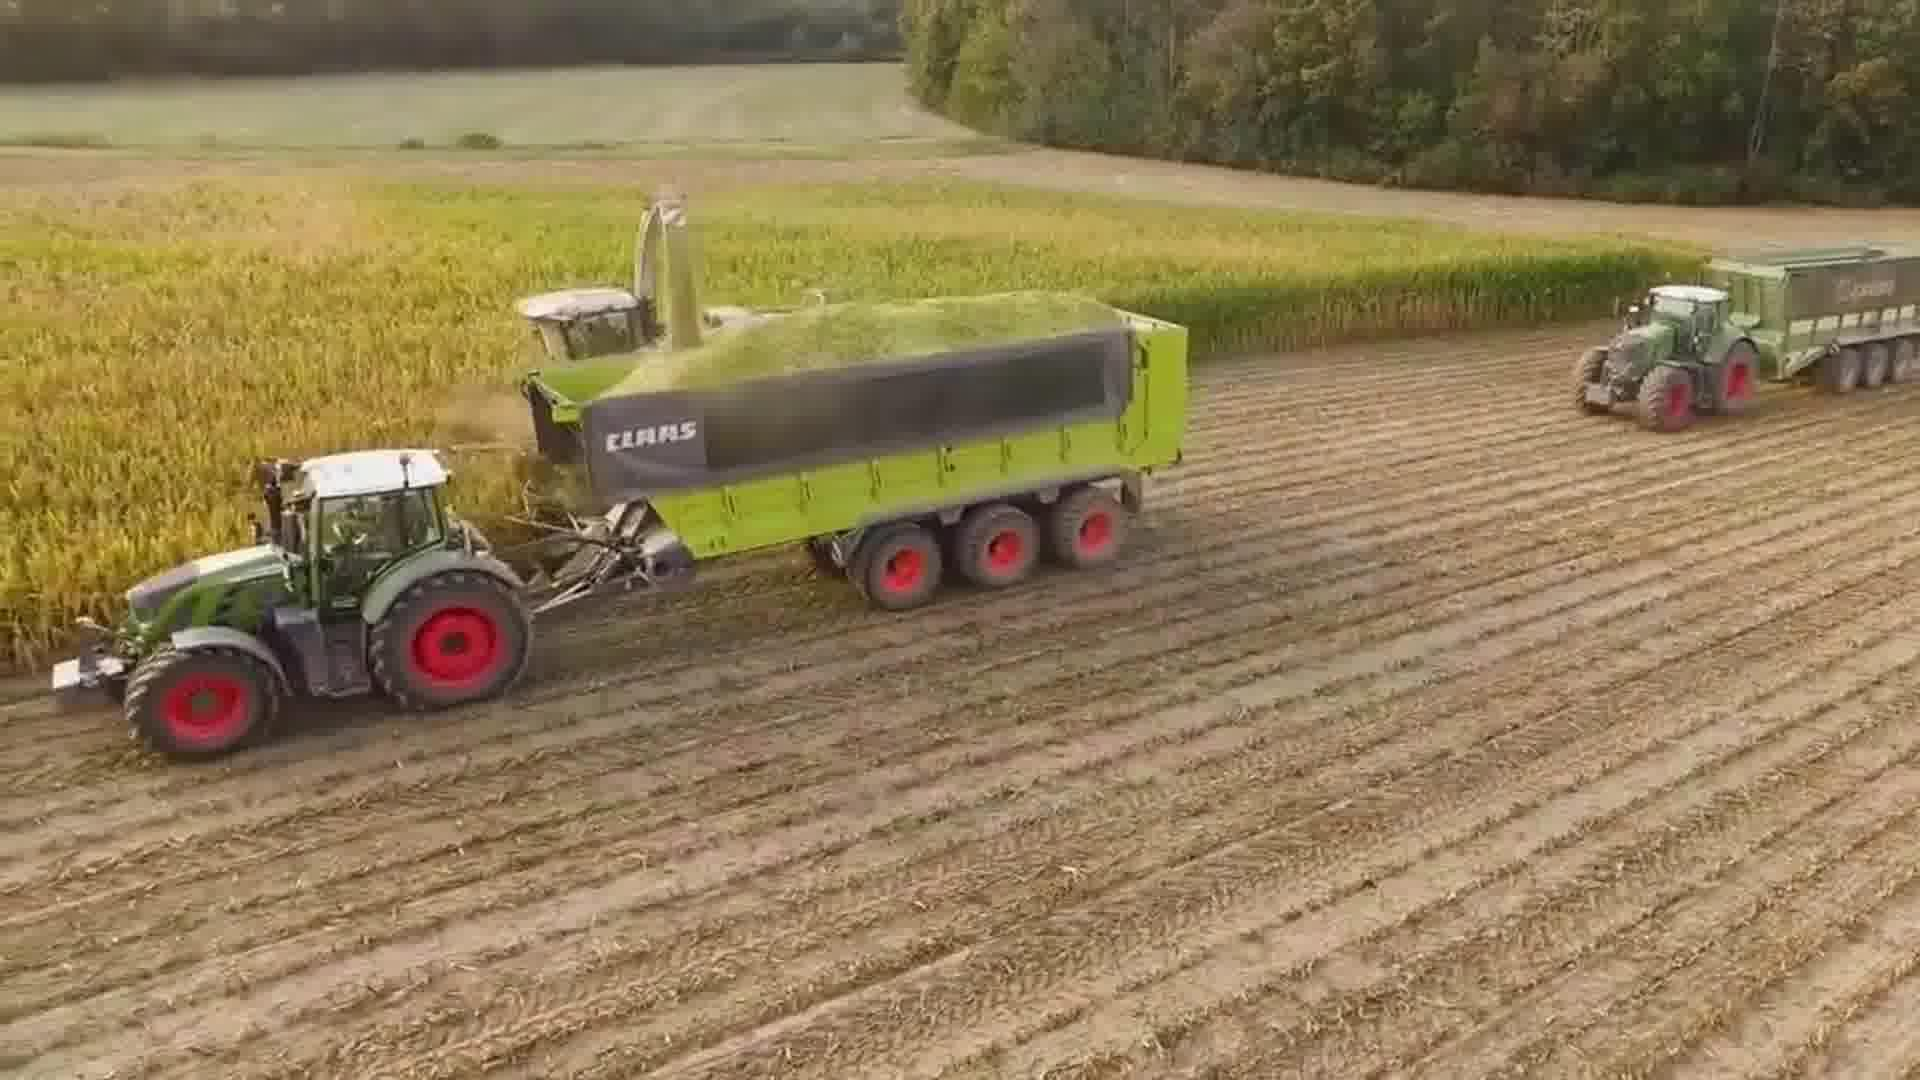combine harvester: (509, 175, 756, 357)
tractor: (46, 435, 545, 771), (1561, 277, 1767, 440)
trailer: (518, 281, 1200, 616), (1693, 244, 1920, 402)
